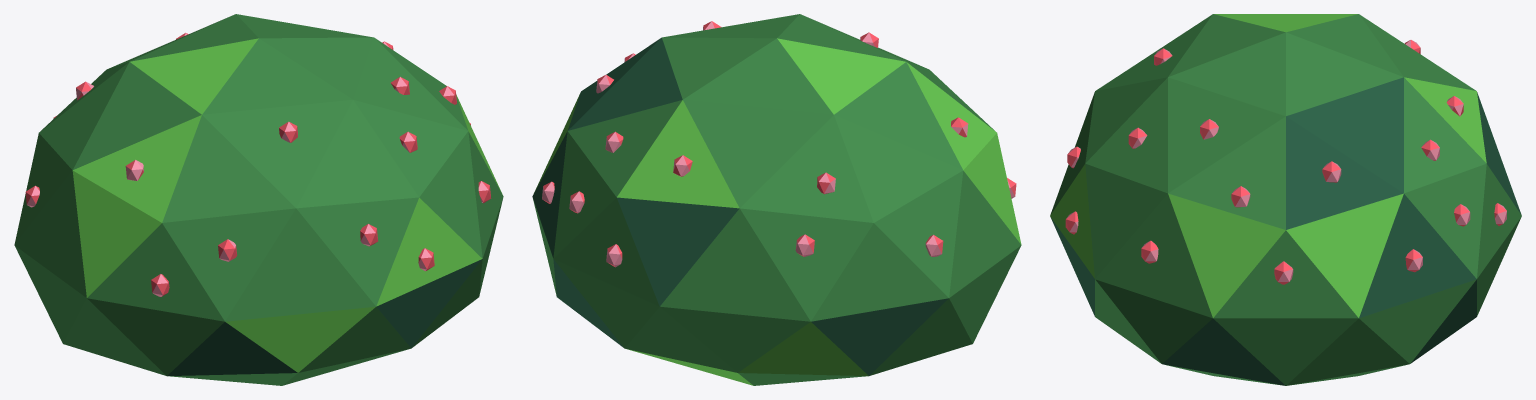
File: Bush 01.fbx
3 renders of one model, left to right at view 1: azimuth 30°, elevation 25°; view 2: azimuth 150°, elevation 25°; view 3: azimuth 270°, elevation 25°, orthographic.
Parts seen in each view (by area): view 1: Bush 01, Bush 01 Fruits; view 2: Bush 01, Bush 01 Fruits; view 3: Bush 01, Bush 01 Fruits.
Boxes of the visible parts, x1=… form: Bush 01: x1=14, y1=14, x2=503, y2=385; Bush 01 Fruits: x1=25, y1=32, x2=491, y2=296; Bush 01: x1=532, y1=14, x2=1021, y2=385; Bush 01 Fruits: x1=542, y1=21, x2=1016, y2=267; Bush 01: x1=1050, y1=14, x2=1521, y2=385; Bush 01 Fruits: x1=1065, y1=40, x2=1506, y2=284.
Bounding box in the file's own units: 234 × 158 × 227.
